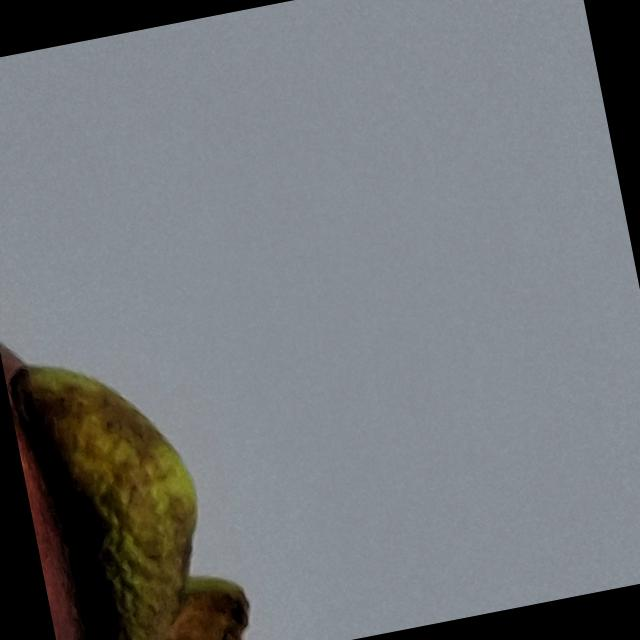mangosteen: (0, 0, 499, 640)
